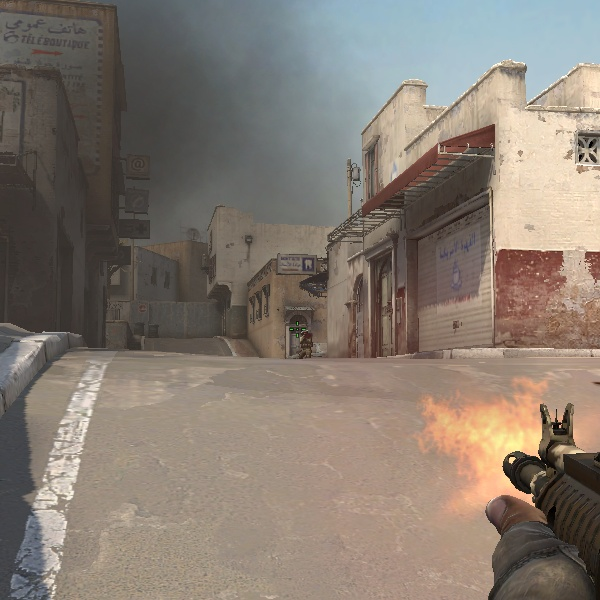ct_body: (298, 328, 312, 359)
ct_head: (301, 329, 308, 336)
